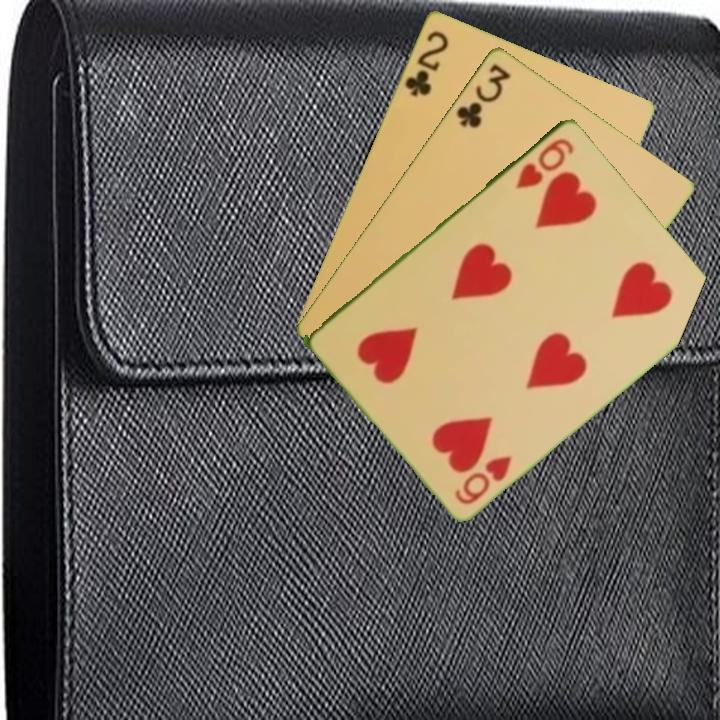2c: (400, 26, 452, 99)
3c: (452, 59, 514, 131)
6h: (512, 134, 577, 191), (451, 451, 515, 507)
